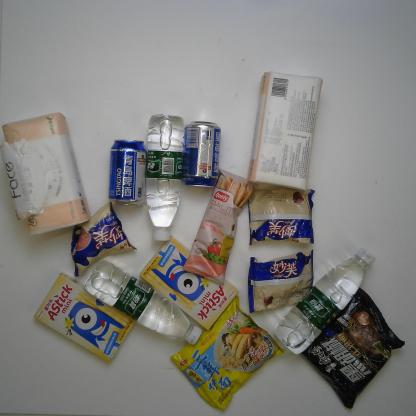Alcohol: (105, 138, 149, 204), (184, 120, 222, 188)
Dessert: (140, 235, 239, 329), (34, 274, 136, 360), (184, 167, 256, 285), (69, 204, 137, 275), (246, 182, 316, 246), (248, 251, 316, 315)
Drink: (274, 249, 374, 355), (82, 260, 204, 345), (146, 114, 186, 243)
Instant Noodles: (303, 286, 407, 409), (170, 299, 283, 410)
Tissue: (3, 112, 89, 238), (246, 70, 322, 192)
